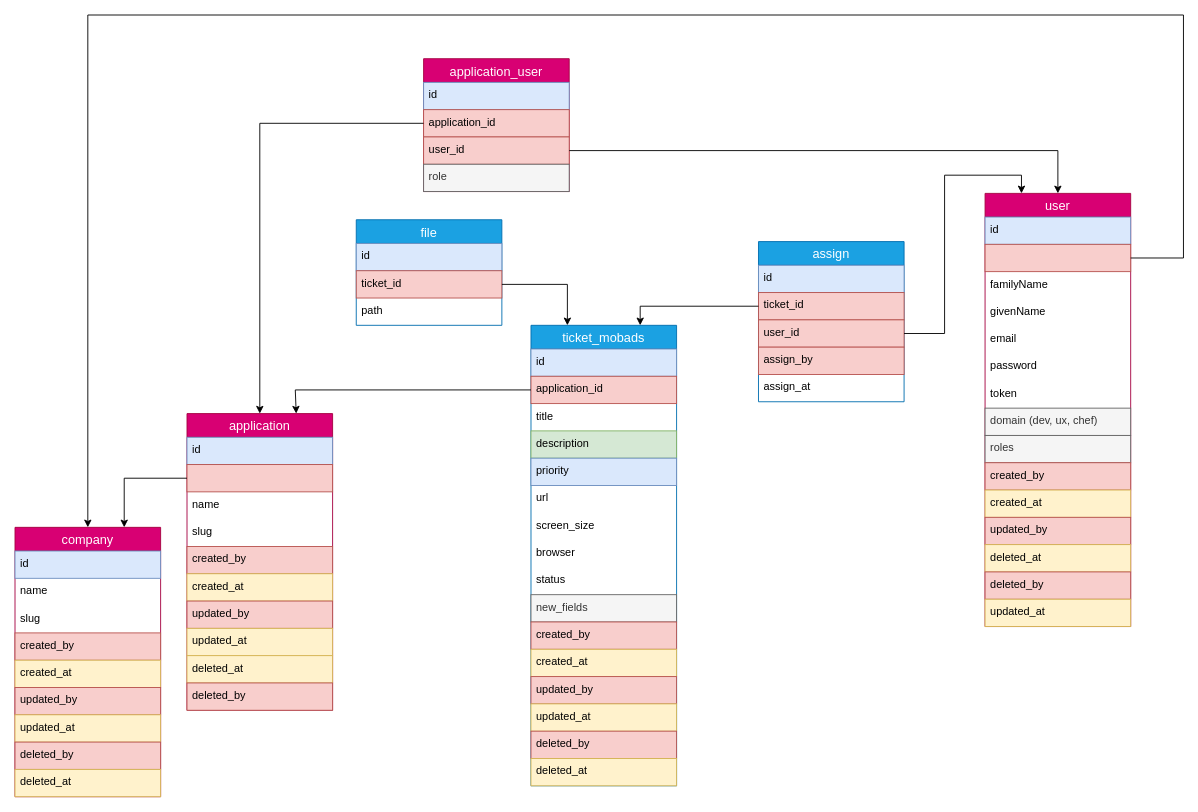
Some shapes in this 1198 by 812 pixel diagram are drawn without their labels. Here are the shapes that lost their labels. From the top down, the centre of each, then its label:
point (1057, 257): companies_id
point (259, 478): company_id
